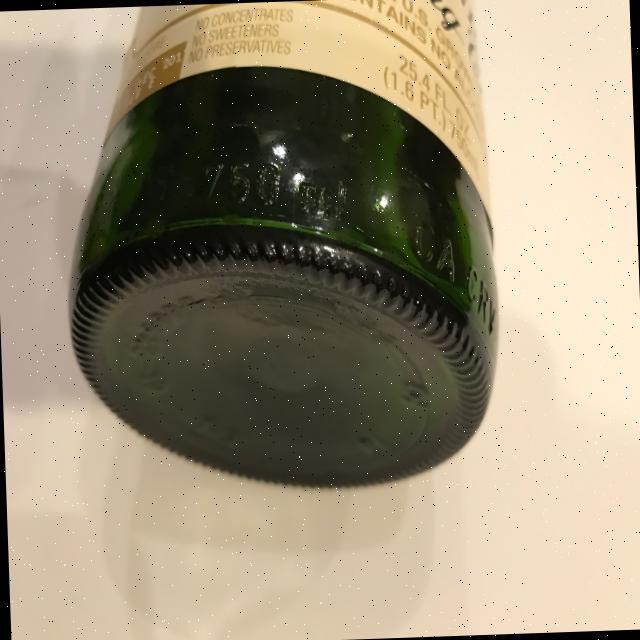glass: (56, 0, 505, 498)
